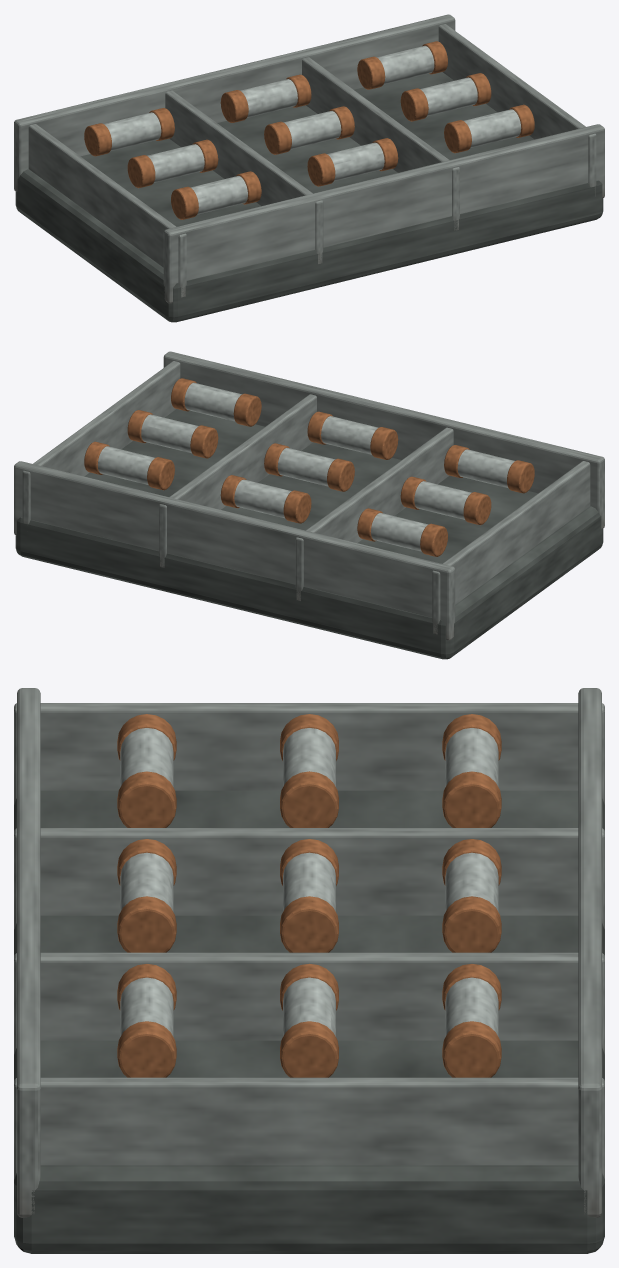
The model's file is GR_FuseTray_04.glb.
The picture shows the model from 3 angles, top to bottom: view 1: azimuth 30°, elevation 25°; view 2: azimuth 150°, elevation 25°; view 3: azimuth 270°, elevation 25°; orthographic projection. The views are drawn at different scales.
Visible parts, largest first — view 1: Static; view 2: Static; view 3: Static.
Part boxes in pixels (x1=…): Static: x1=14, y1=14, x2=604, y2=322; Static: x1=14, y1=351, x2=604, y2=659; Static: x1=14, y1=688, x2=604, y2=1253.
Bounding box in the file's own units: 0.32 × 0.07 × 0.2.
Materials: 1 (1 with a texture image).
